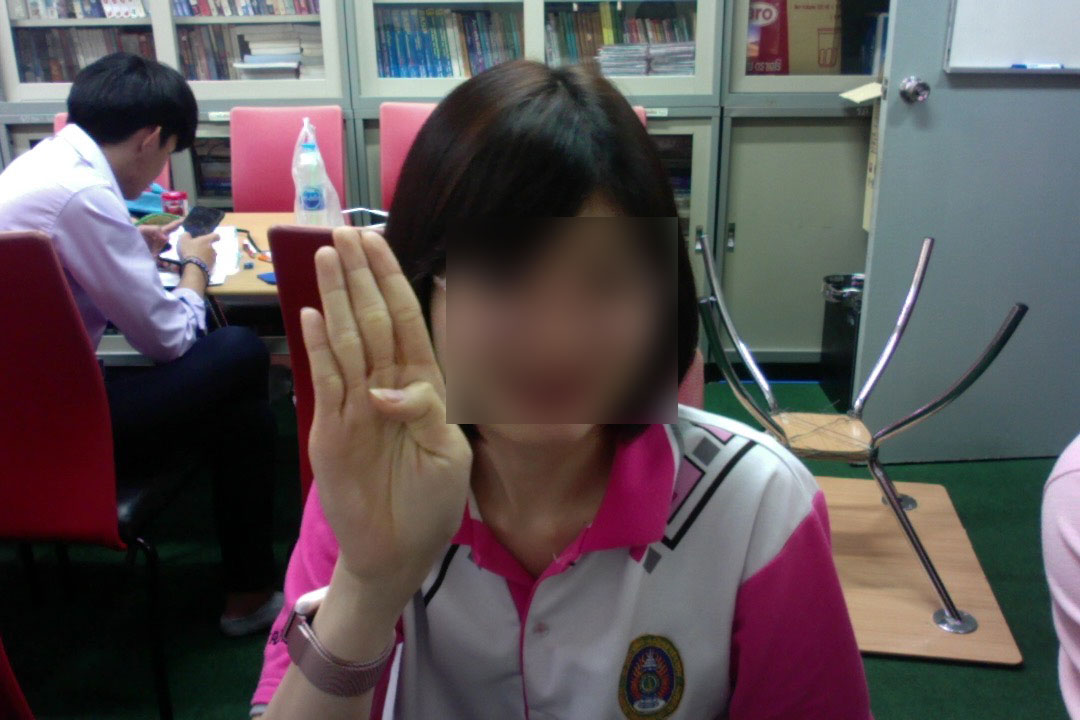bor: (284, 220, 478, 598)
